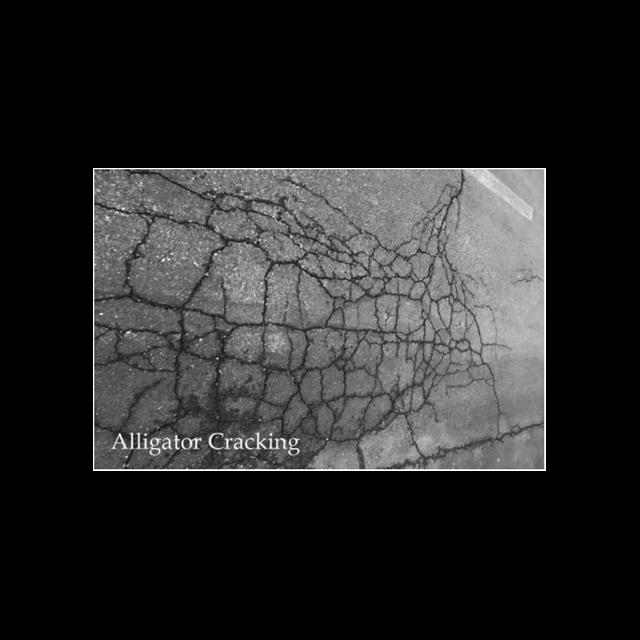retak_kulit_buaya: (131, 187, 477, 431)
